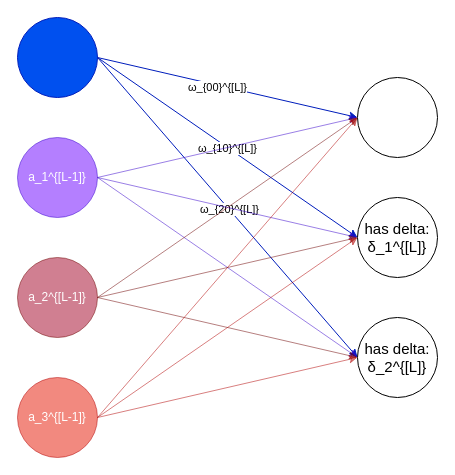
This 455x475 diagram has some shape labels left out. The shapes that lost their labels are listed below. From the top down, each one's centre as x and y in pixels, then its label:
the point at 57,57: a_0^{[L-1]}
the point at 397,117: has delta: δ_0^{[L]}
